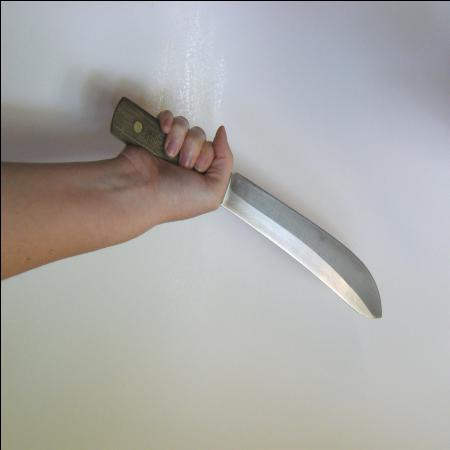long weapon: (166, 116, 402, 334)
